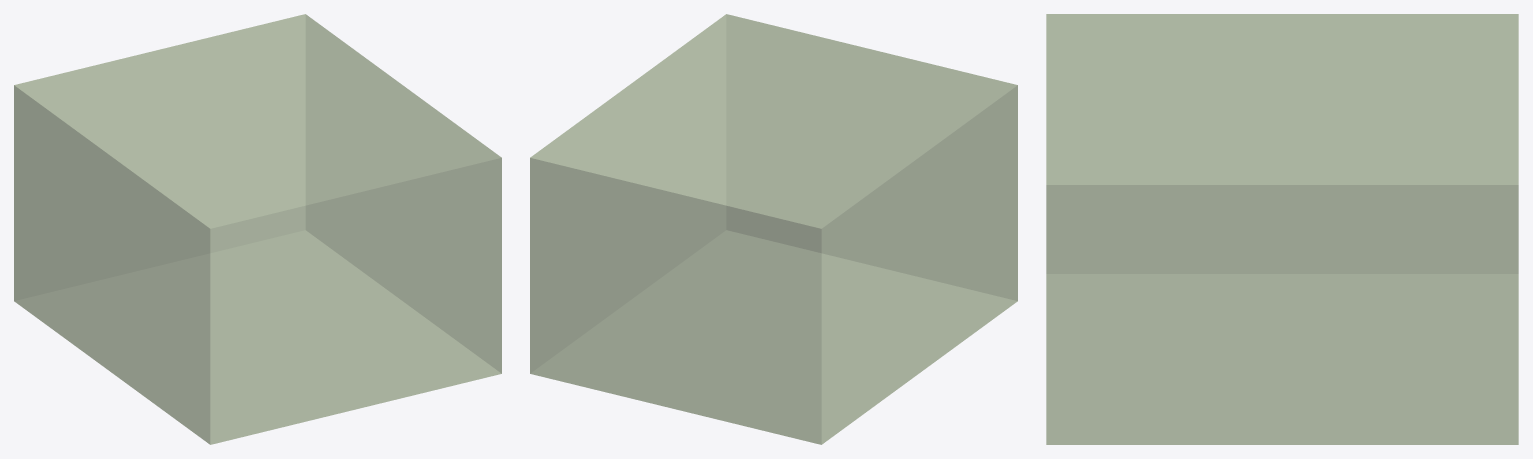
File: blockout.glb
3 views of the same model, side by side, from view 1: azimuth 30°, elevation 25°; view 2: azimuth 150°, elevation 25°; view 3: azimuth 270°, elevation 25° (orthographic). The views are drawn at different scales.
Visible parts, largest first — view 1: U11_ENVELOPE_NOT_FINAL_MESH; view 2: U11_ENVELOPE_NOT_FINAL_MESH; view 3: U11_ENVELOPE_NOT_FINAL_MESH.
Part boxes in pixels (left/top/right/bottom): U11_ENVELOPE_NOT_FINAL_MESH: left=14, top=14, right=501, bottom=444; U11_ENVELOPE_NOT_FINAL_MESH: left=530, top=14, right=1017, bottom=444; U11_ENVELOPE_NOT_FINAL_MESH: left=1046, top=14, right=1518, bottom=444.
Size of the model in its own units: 2.4 by 1.7 by 2.8.
